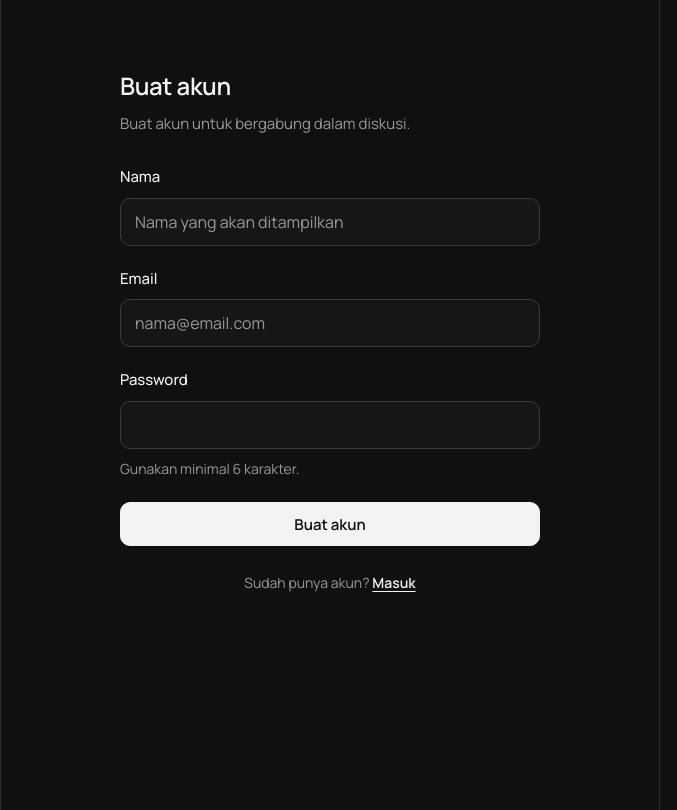
rejects a short registration password without sending a request
Step 1. Type "Ayu" into the field labelled "Nama" → (330, 222), box x1=120 y1=198 x2=540 y2=246
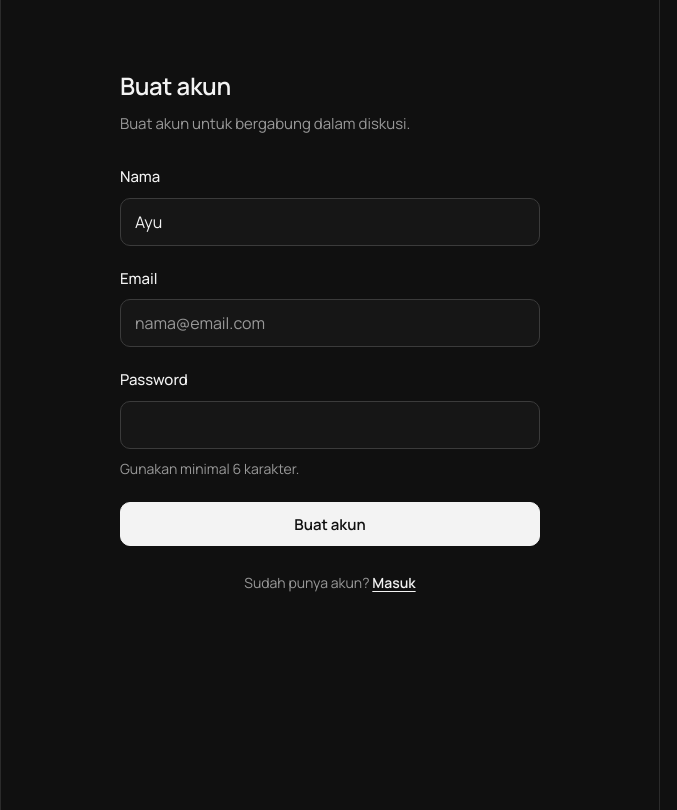
Step 2. Type "ayu@example.com" into the field labelled "Email" → (330, 323), box x1=120 y1=299 x2=540 y2=347
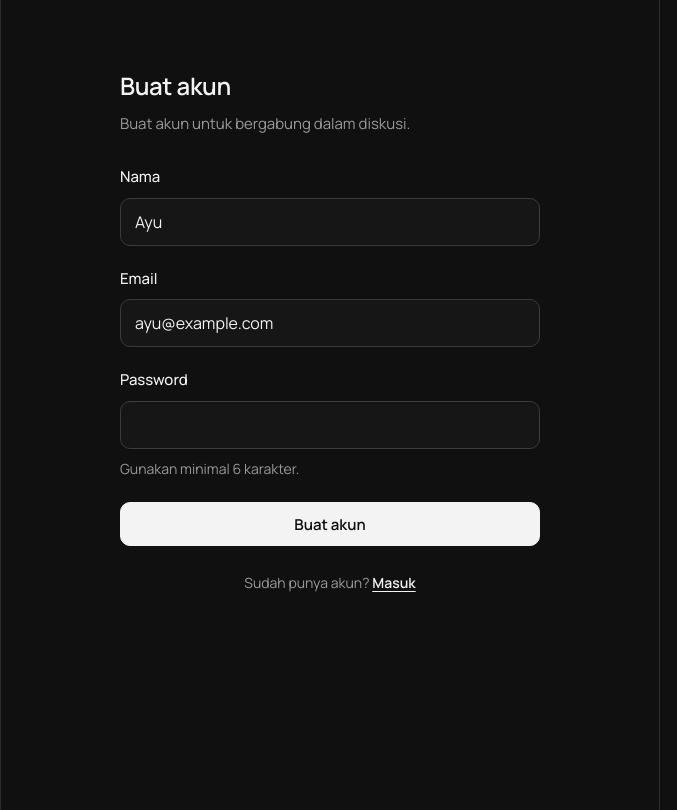
Step 3. Type "abc" into the password field labelled "Password" → (330, 425), box x1=120 y1=401 x2=540 y2=449
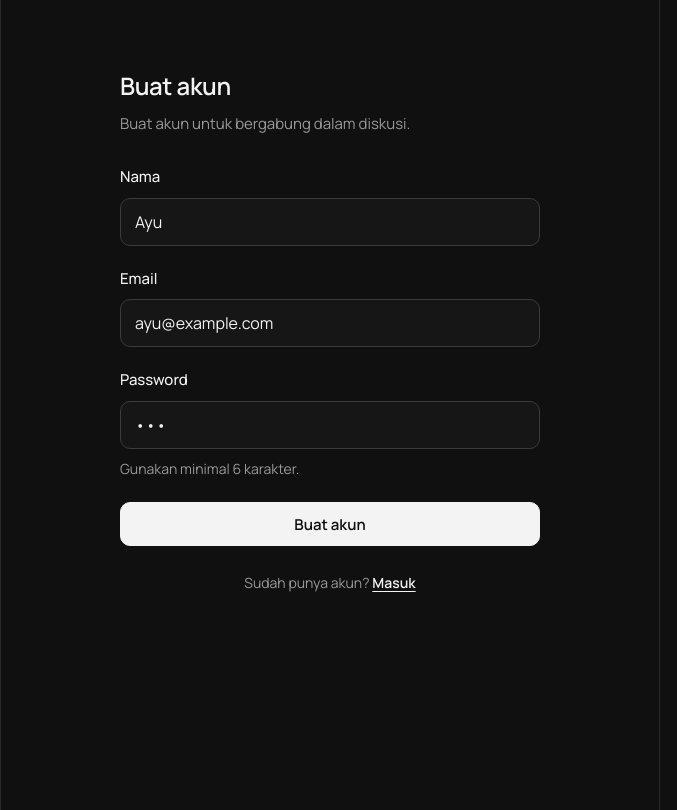
Step 4. Submit the form, box x1=120 y1=166 x2=540 y2=546
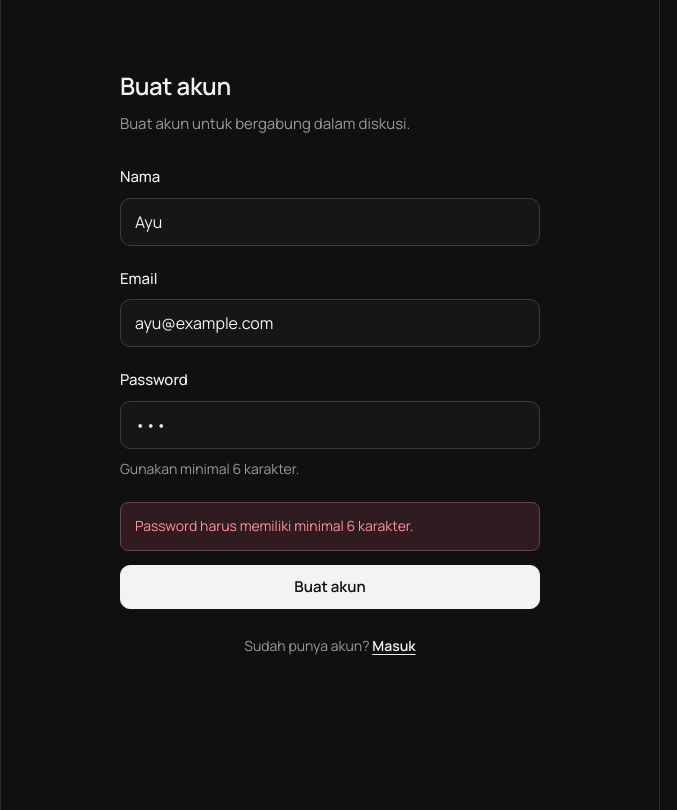
Check: the message shows "6 karakter", box x1=135 y1=516 x2=413 y2=535
